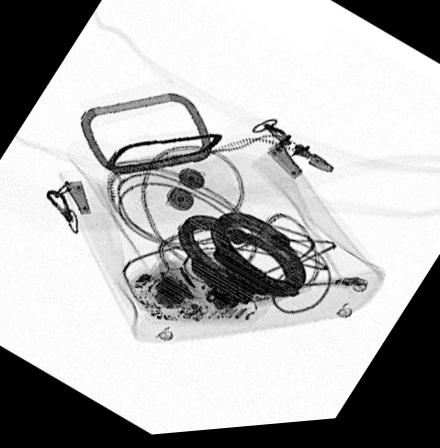HandCuffs: (175, 209, 309, 309)
